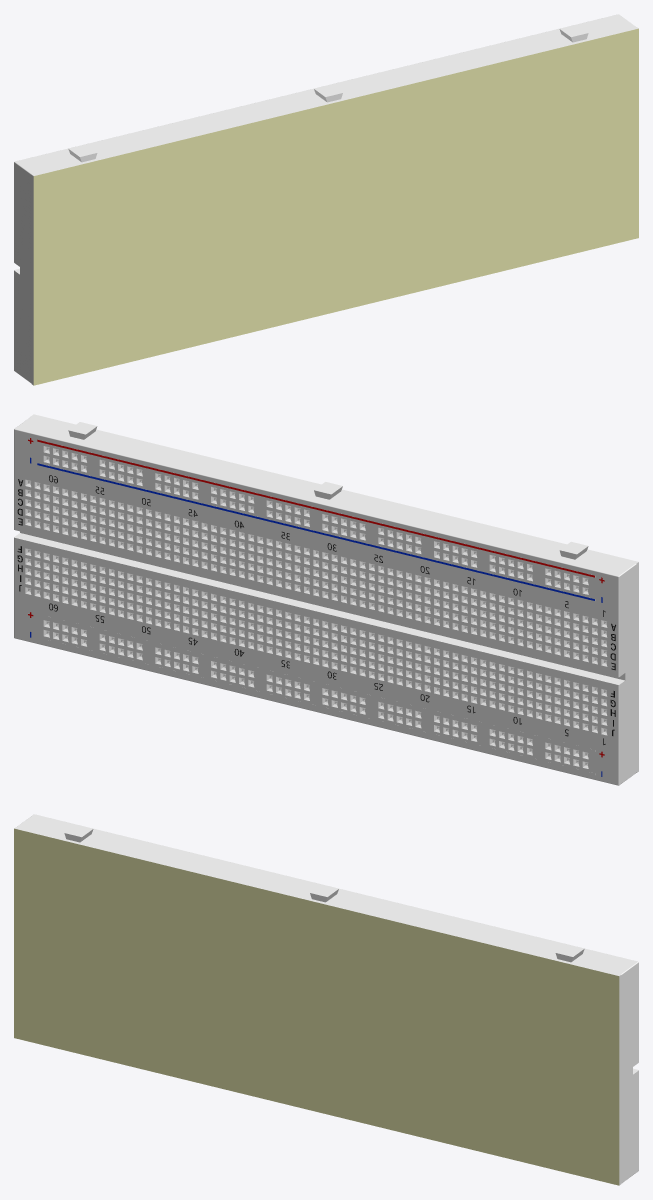
File: breadboard.glb
The picture shows the model from 3 angles, top to bottom: view 1: azimuth 30°, elevation 25°; view 2: azimuth 150°, elevation 25°; view 3: azimuth 330°, elevation 25°; orthographic projection.
Parts seen in each view (by area): view 1: Breadboard, Breadboard001; view 2: Breadboard001, Breadboard; view 3: Breadboard, Breadboard001.
Boxes of the visible parts, left/top/right/bottom form: Breadboard: left=31, top=27, right=638, bottom=385; Breadboard001: left=14, top=14, right=635, bottom=383; Breadboard001: left=14, top=416, right=636, bottom=785; Breadboard: left=32, top=414, right=638, bottom=772; Breadboard: left=14, top=827, right=621, bottom=1185; Breadboard001: left=17, top=814, right=638, bottom=1183.
Size of the model in its own units: 0.1655 by 0.0563 by 0.00951.
